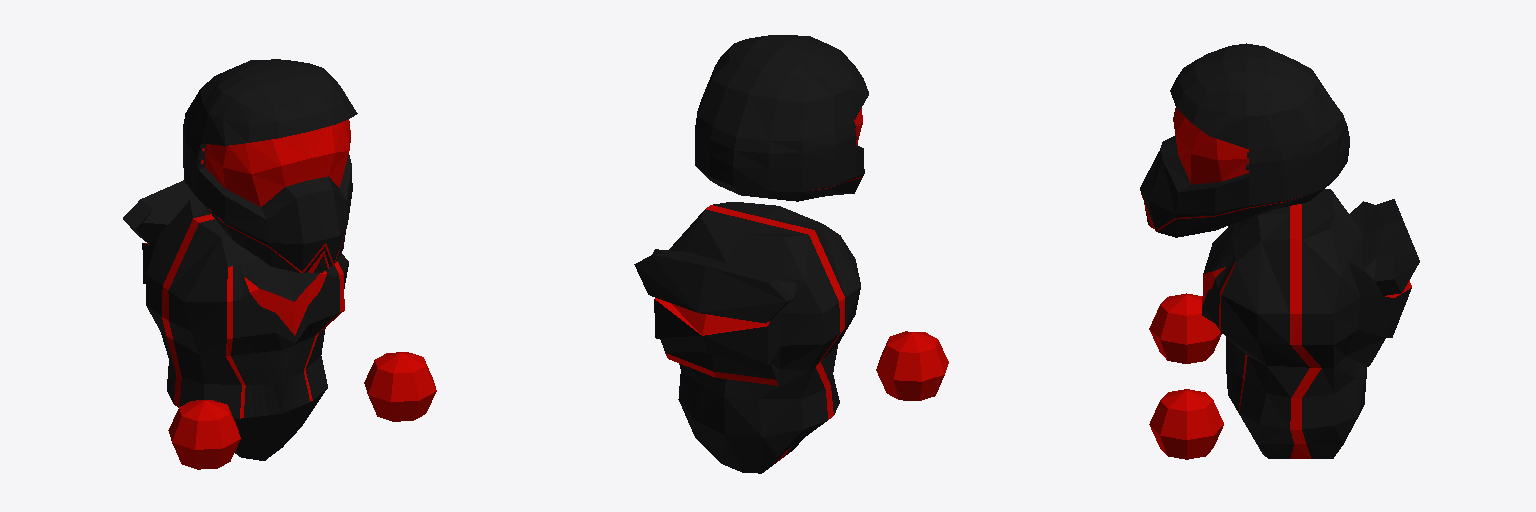
The model's file is avatar_old.sgm.obj.
3 views of the same model, side by side, from view 1: azimuth 30°, elevation 25°; view 2: azimuth 150°, elevation 25°; view 3: azimuth 270°, elevation 25° (orthographic).
Parts seen in each view (by area): view 1: 0, 1; view 2: 0, 1; view 3: 0, 1.
Boxes of the visible parts, <box> form: 0: <box>123,59,357,460</box>; 1: <box>145,119,436,469</box>; 0: <box>634,35,868,473</box>; 1: <box>655,108,948,463</box>; 0: <box>1140,43,1419,458</box>; 1: <box>1141,108,1411,459</box>.
Bounding box in the file's own units: 0.2796 × 0.4078 × 0.2603.